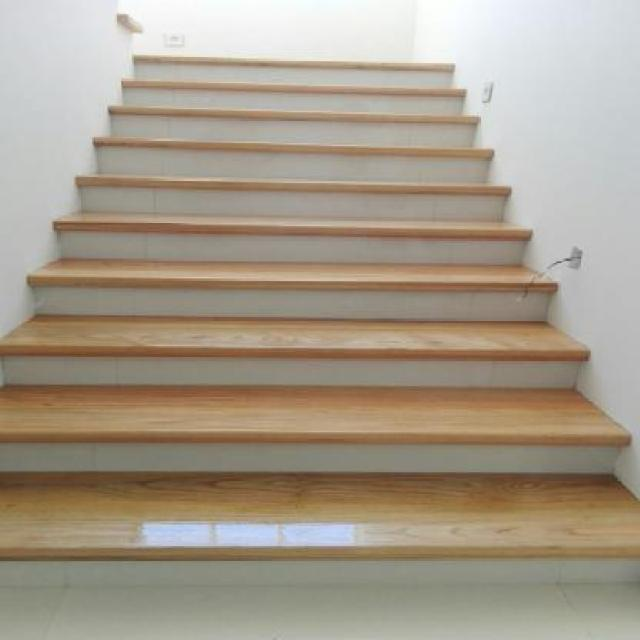stair: (6, 17, 640, 576)
